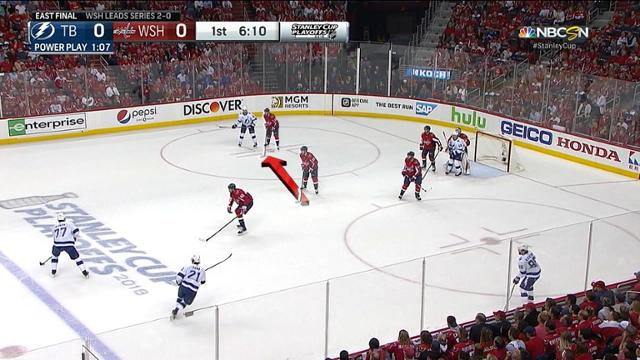geico: (498, 116, 558, 153)
